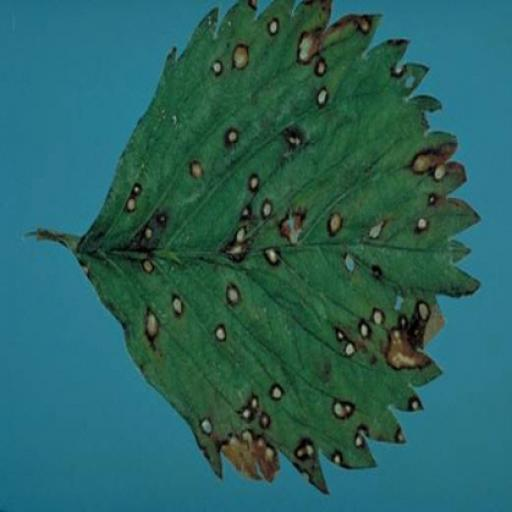Leaf Spot: (69, 0, 483, 496)
